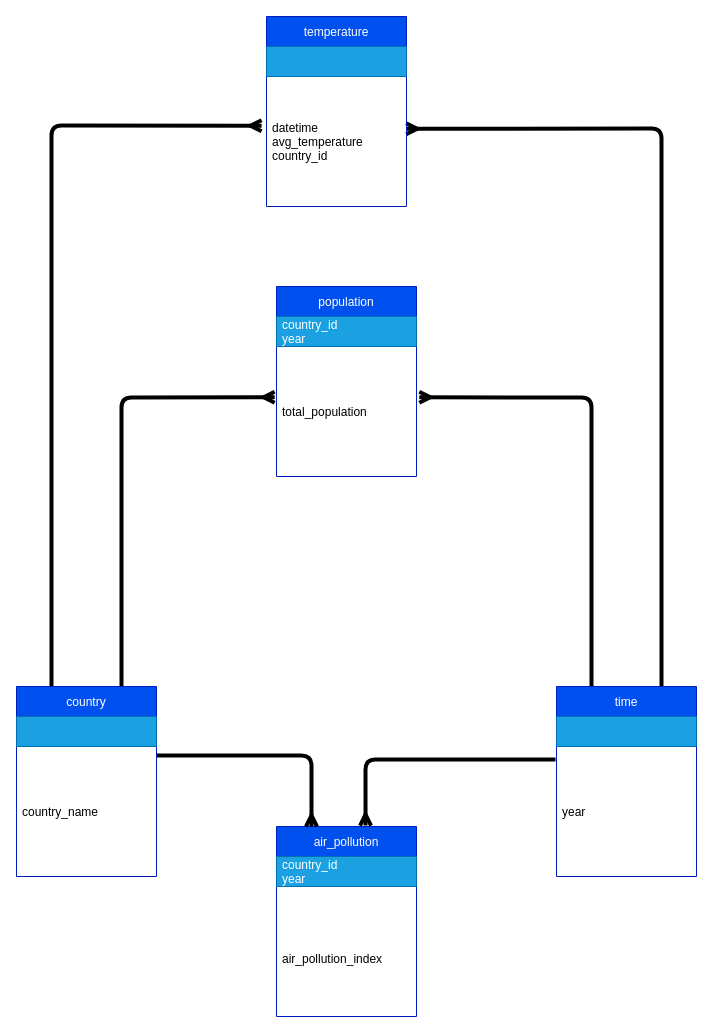
This 713x1033 diagram has some shape labels left out. The box of each missing label's shape, as (x1, y1, x2, y2) in pixels:
country_id: (16, 716, 156, 746)
date_time: (556, 716, 696, 746)
temperature_id: (266, 46, 406, 76)
